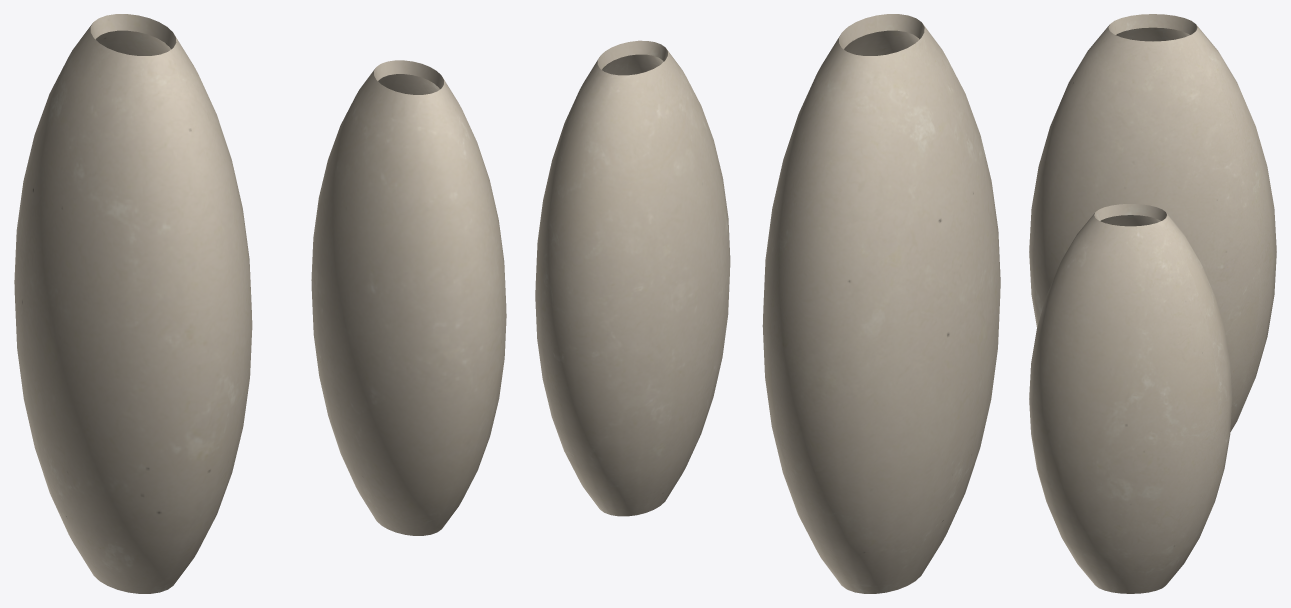
Rendered from VasiAlti.fbx.
3 renders of one model, left to right at view 1: azimuth 30°, elevation 25°; view 2: azimuth 150°, elevation 25°; view 3: azimuth 270°, elevation 25°, orthographic. The views are drawn at different scales.
Visible parts, largest first — view 1: VasiAlti; view 2: VasiAlti; view 3: VasiAlti.
Part boxes in pixels (x1,y1,x2,y2): VasiAlti: (14, 14, 506, 593); VasiAlti: (535, 14, 1000, 593); VasiAlti: (1029, 14, 1276, 593).
Bounding box in the file's own units: 92.02 × 109 × 54.67.
